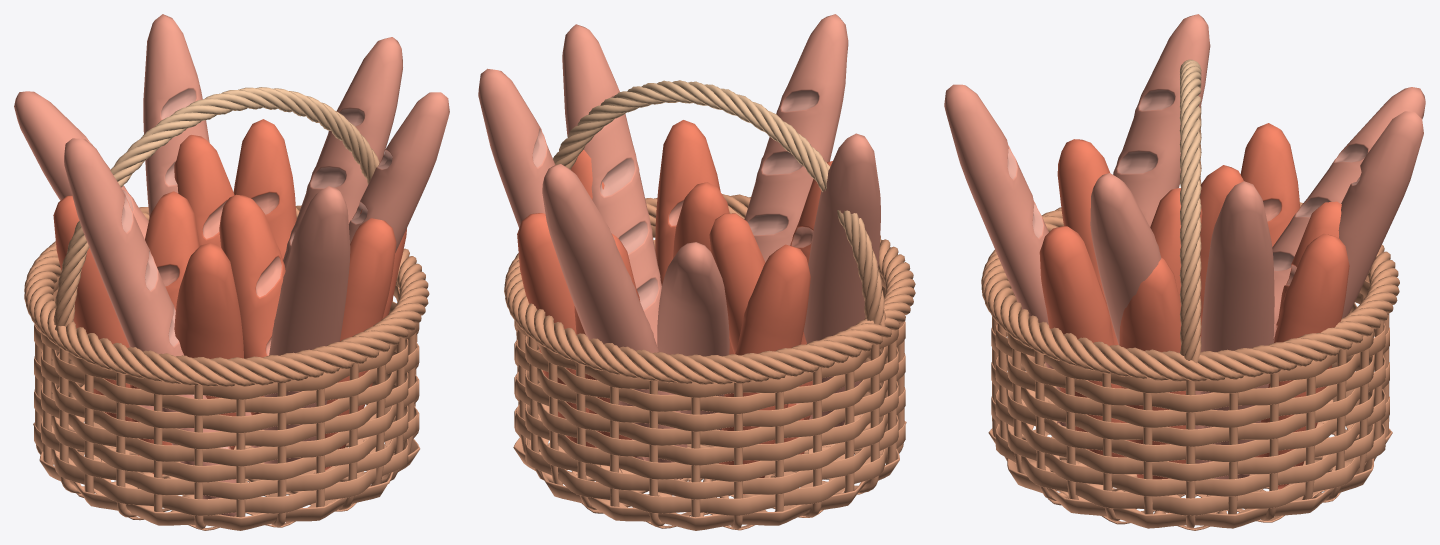
File: SM_BreadsSet.fbx
The picture shows the model from 3 angles, left to right: view 1: azimuth 30°, elevation 25°; view 2: azimuth 150°, elevation 25°; view 3: azimuth 270°, elevation 25°; orthographic projection. The views are drawn at different scales.
Parts seen in each view (by area): view 1: SM_BreadsSet; view 2: SM_BreadsSet; view 3: SM_BreadsSet.
Boxes of the visible parts, x1,y1,x2,y2 form: SM_BreadsSet: (14,14,449,530); SM_BreadsSet: (478,14,915,530); SM_BreadsSet: (944,14,1425,530).
Bounding box in the file's own units: 74.56 × 71.05 × 80.18.
